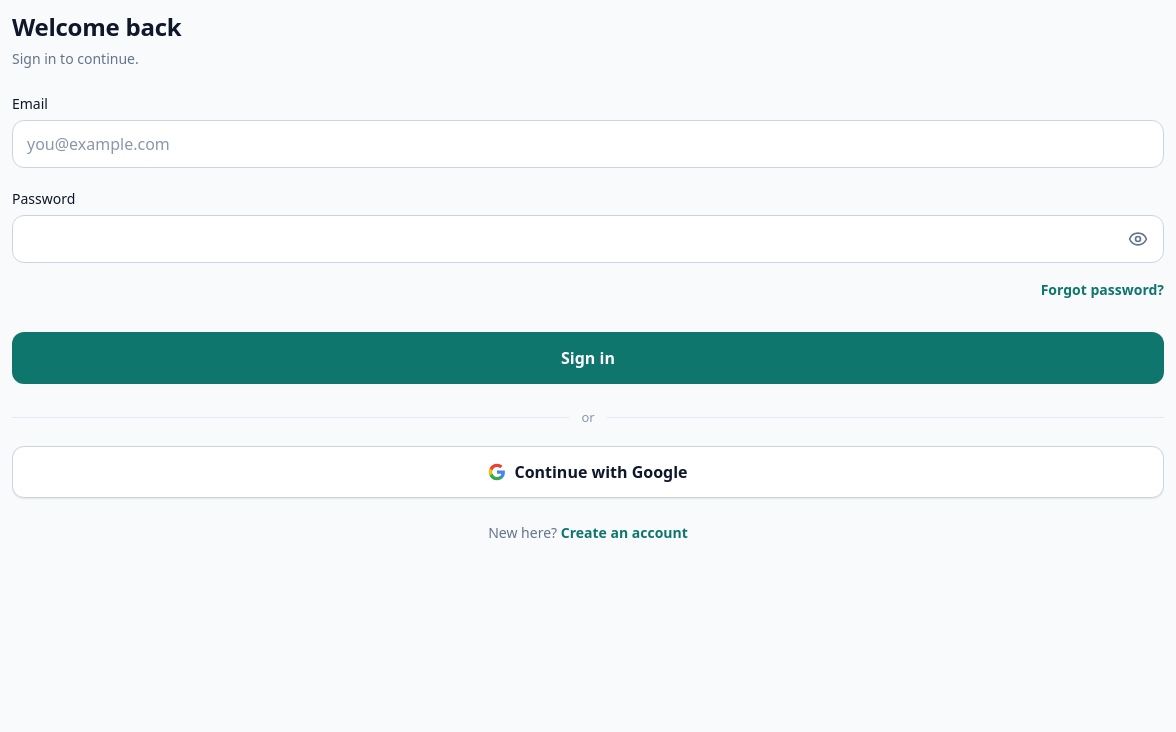
Test: LoginForm › shows a friendly generic error and never the backend message
This screenshot has width=1176, height=732.
Type "alex@example.com" into the field labelled "Email" at coordinates (588, 144), box left=12, top=120, right=1164, bottom=168
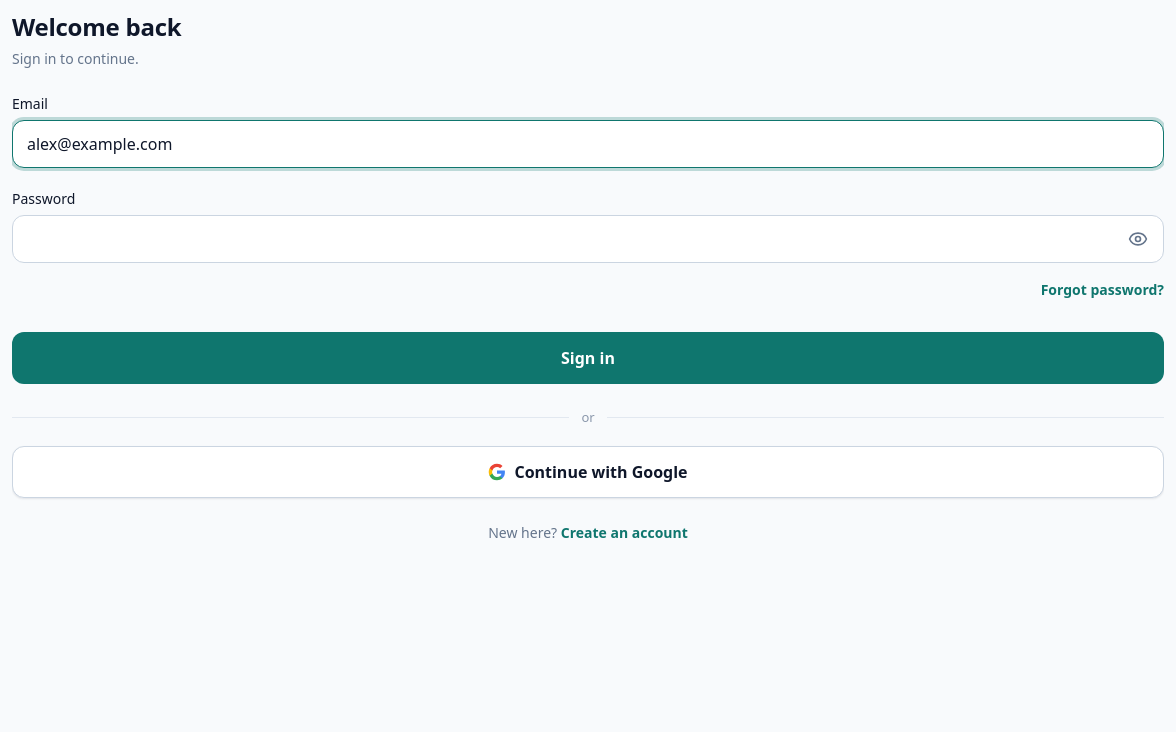
Type "wrong-password" into the password field labelled "Password" at coordinates (588, 239), box left=12, top=215, right=1164, bottom=263
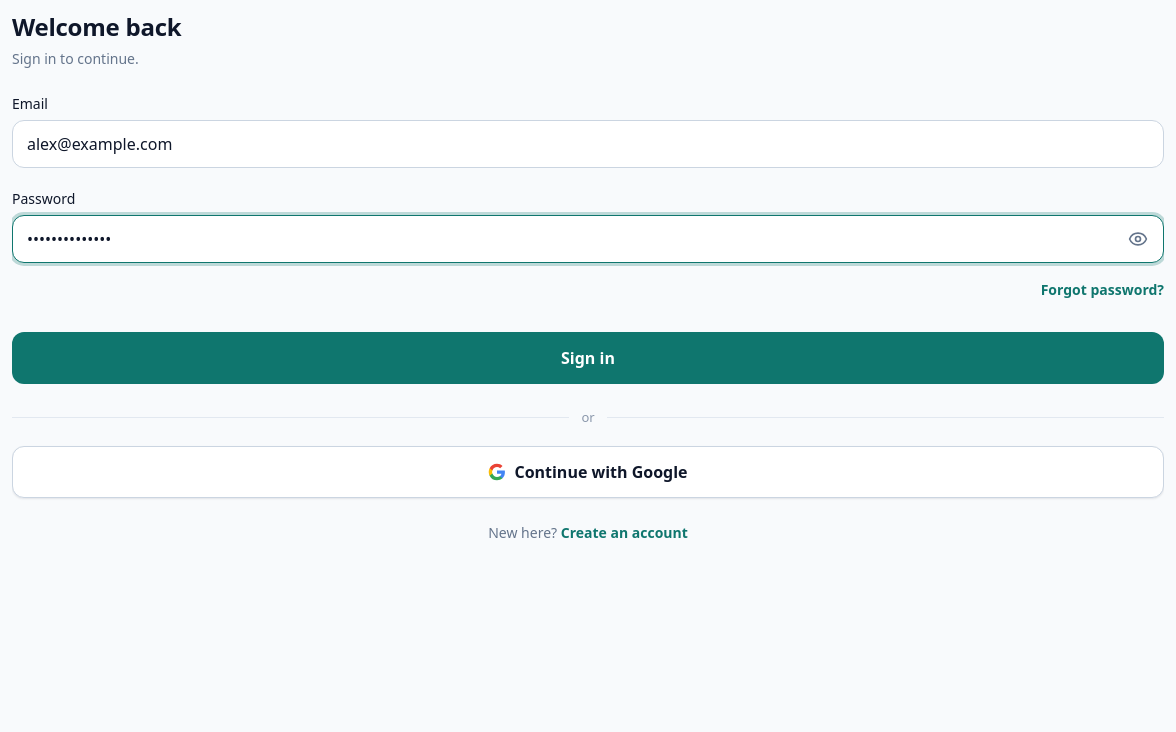
Click the button "Sign in" at coordinates (588, 358), box left=12, top=332, right=1164, bottom=384
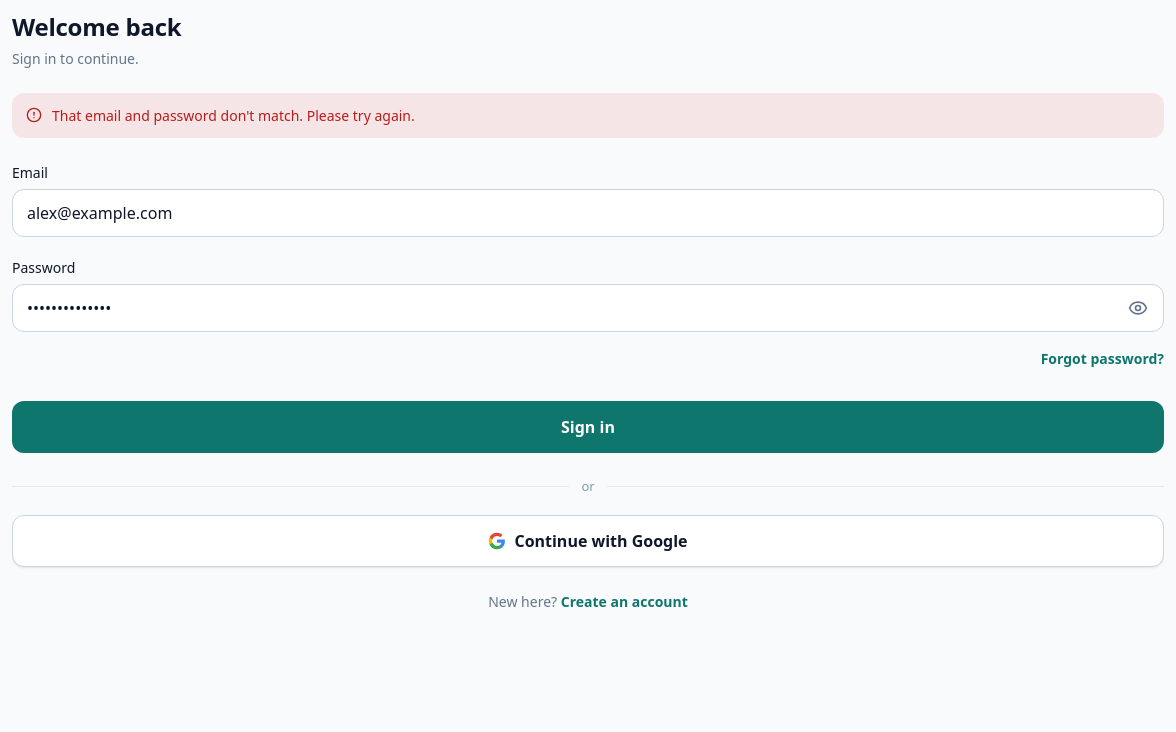
Now the message reads "That email and password don't match. Please try again.", box left=52, top=106, right=415, bottom=125
